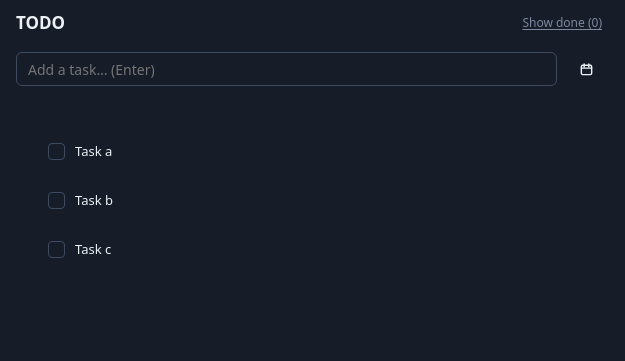
Test: TodoView row activation › a double-click opens the inline editor
Double-click the list item with class "ix-todo-item" showing "Task b".
double_click(80, 200)  # box [48, 191, 113, 209]
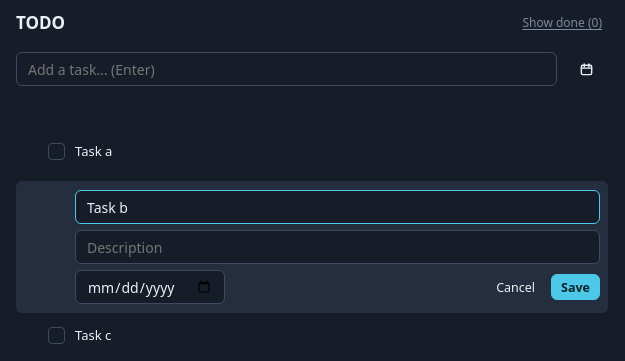
Expected: the number of list items with class "ix-todo-item--editing" is 1, [16, 181, 608, 313]
Expected: the field showing "Task b" is shown, [75, 190, 600, 224]
